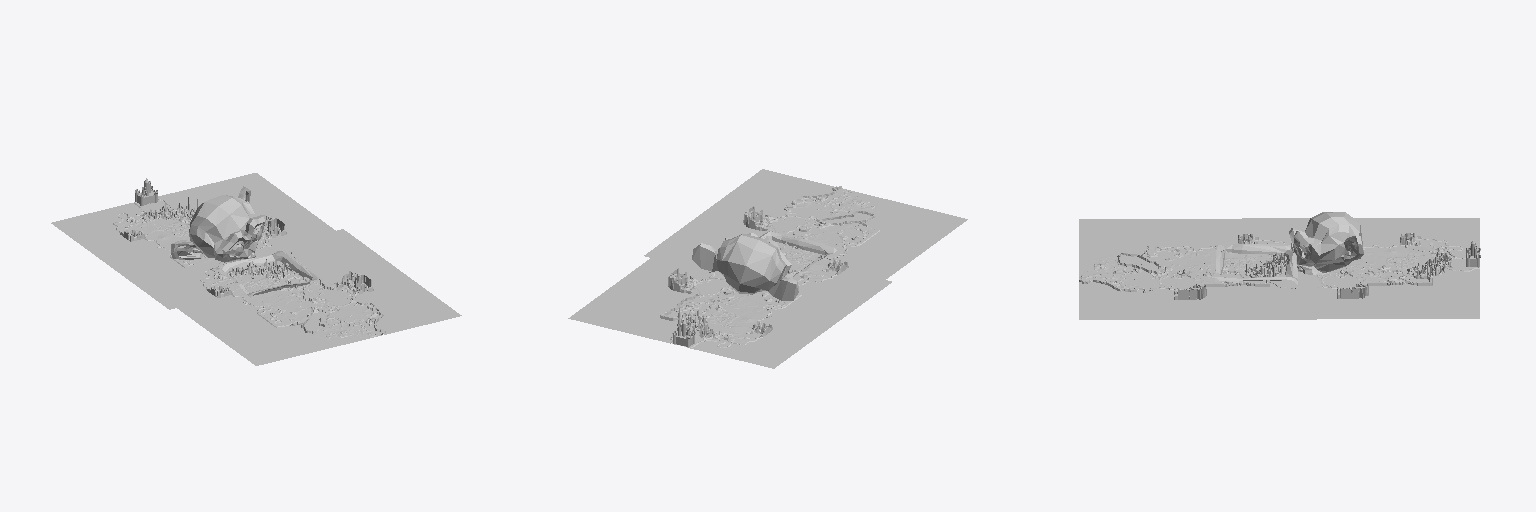
The model's file is 2.full.obj.
The picture shows the model from 3 angles: view 1: azimuth 30°, elevation 25°; view 2: azimuth 150°, elevation 25°; view 3: azimuth 270°, elevation 25°; orthographic projection.
Size of the model in its own units: 1746 by 620 by 2869.